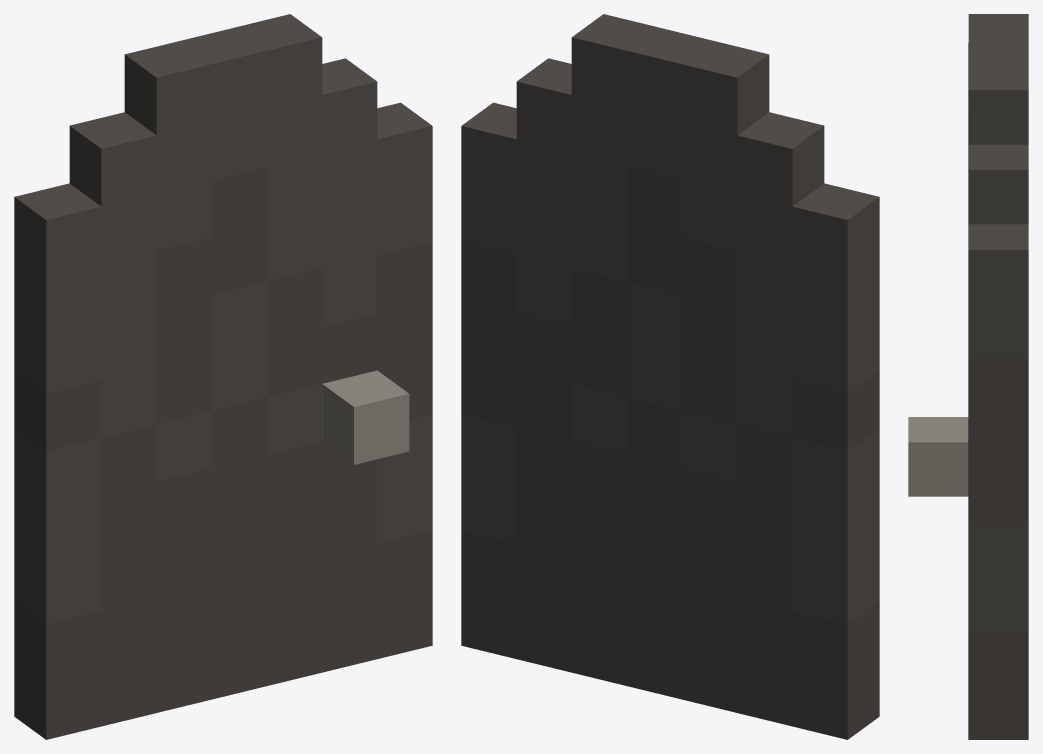
Rendered from church door.fbx.
The picture shows the model from 3 angles, left to right: view 1: azimuth 30°, elevation 25°; view 2: azimuth 150°, elevation 25°; view 3: azimuth 270°, elevation 25°; orthographic projection. The views are drawn at different scales.
Parts seen in each view (by area): view 1: church door; view 2: church door; view 3: church door.
Part boxes in pixels (x1,y1,x2,y2): church door: (14, 14, 432, 739); church door: (461, 14, 879, 739); church door: (908, 14, 1028, 739).
Size of the model in its own units: 2.76 by 4.34 by 0.7895.
